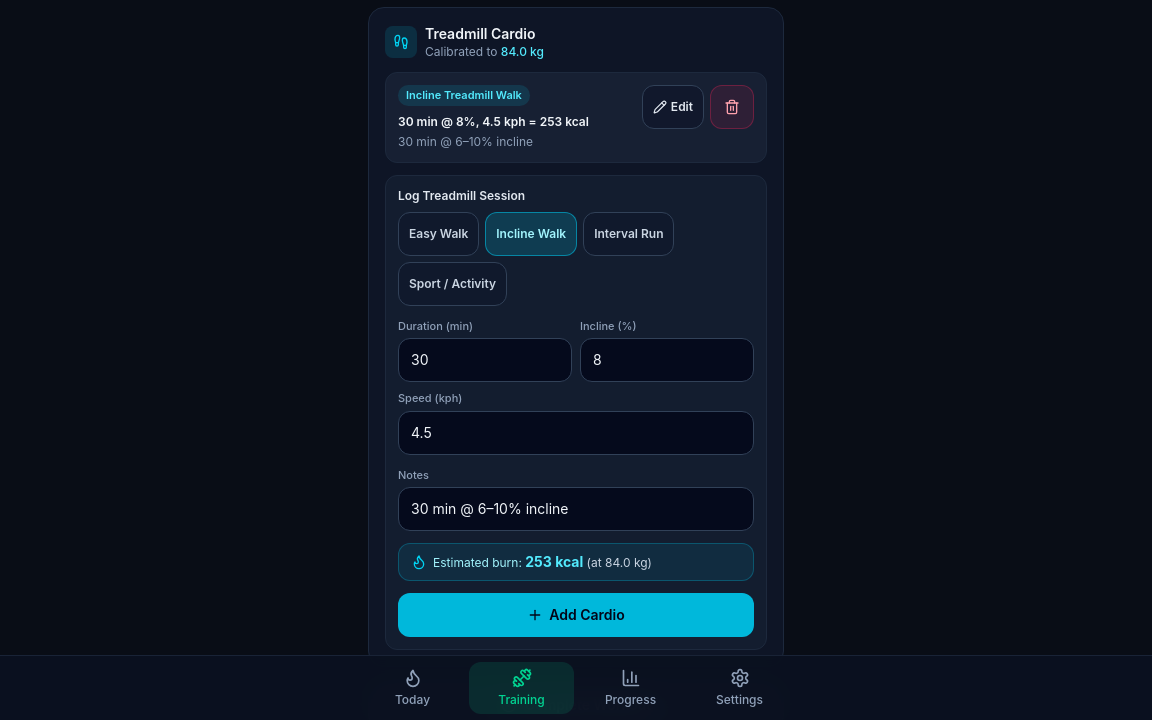
Test case: TrainingView, WorkoutLogger, TreadmillLogger & RestTimer › preserves newly added cardio when Remove cardio 1 is clicked while Add Cardio is in-flight (Probe 1e-remove)
(page scrolled)
// Distinguish the newly added entry (15 min) from the pre-populated 30 min entry
Replace the text in the number field labelled "Duration (min)" with "15" at (485, 360), box [398,338,572,382]
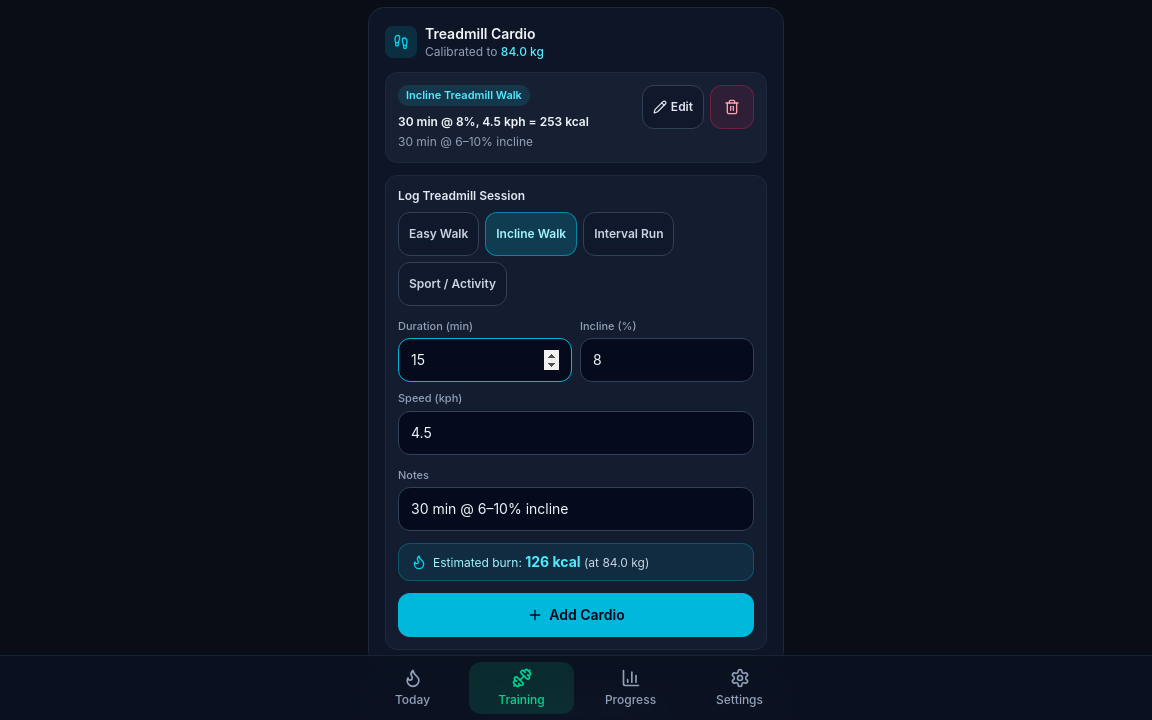
Click the button "Add Cardio" at (576, 615), box [398,593,754,637]
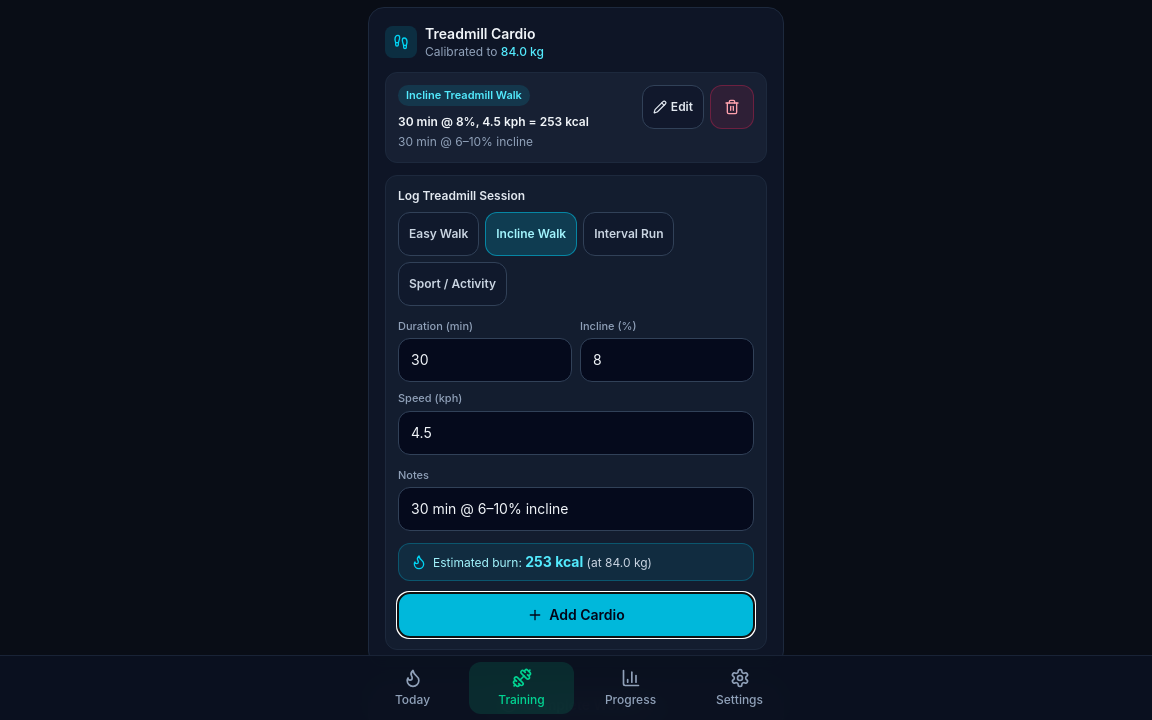
Click the button named "Remove cardio 1" at (732, 107), box [710,85,754,129]
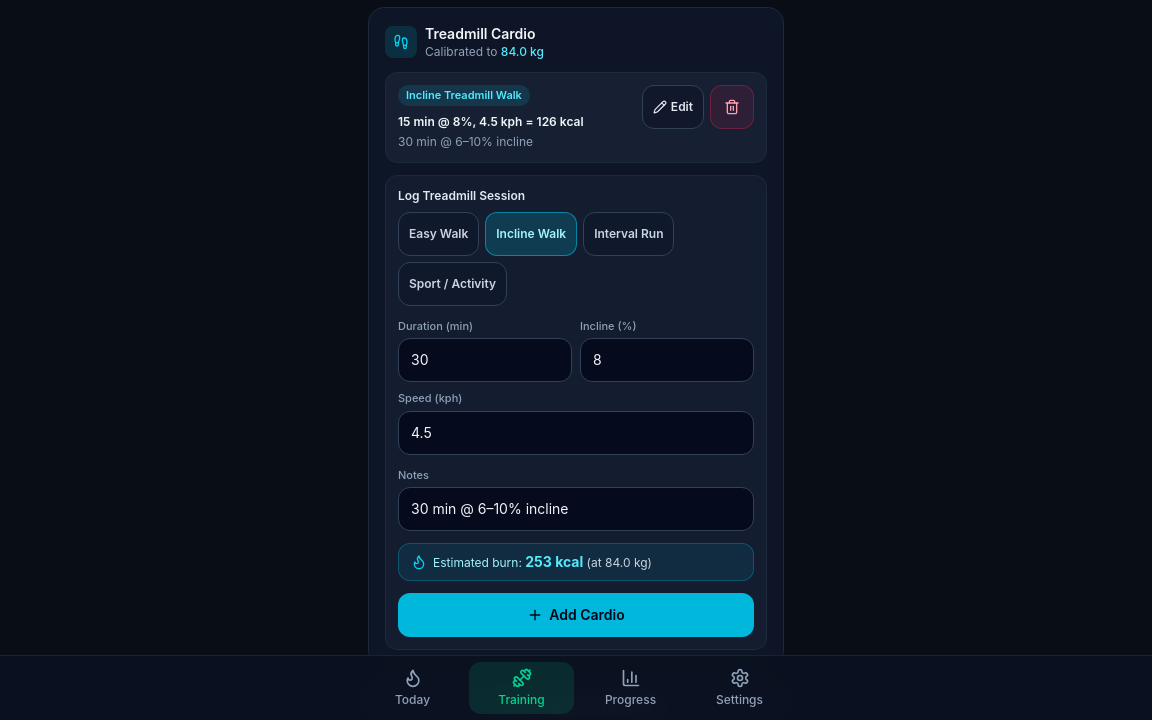
Expected: the text "30 min @ 8%, 4.5 kph" is gone
Expected: the text "15 min @ 8%, 4.5 kph = 126 kcal" is shown, [398,114,584,130]
